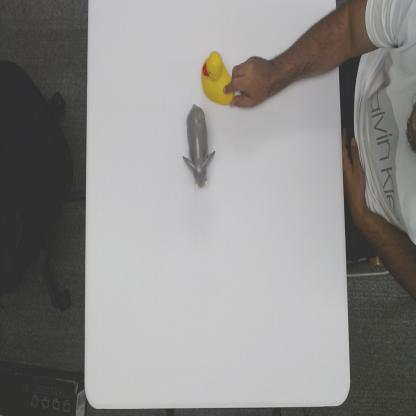Arm: (276, 11, 339, 86)
Duck: (201, 49, 235, 106)
Elephant: (183, 103, 215, 190)
Hand: (226, 56, 277, 108)
